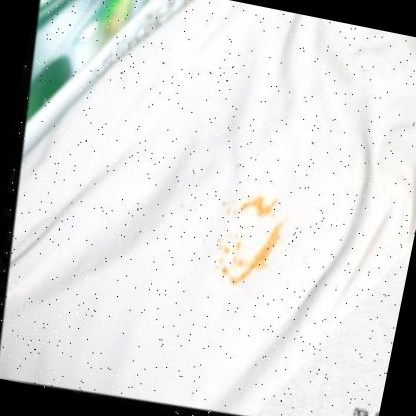kimchi: (203, 231, 262, 289), (218, 192, 288, 230), (253, 217, 288, 273)
